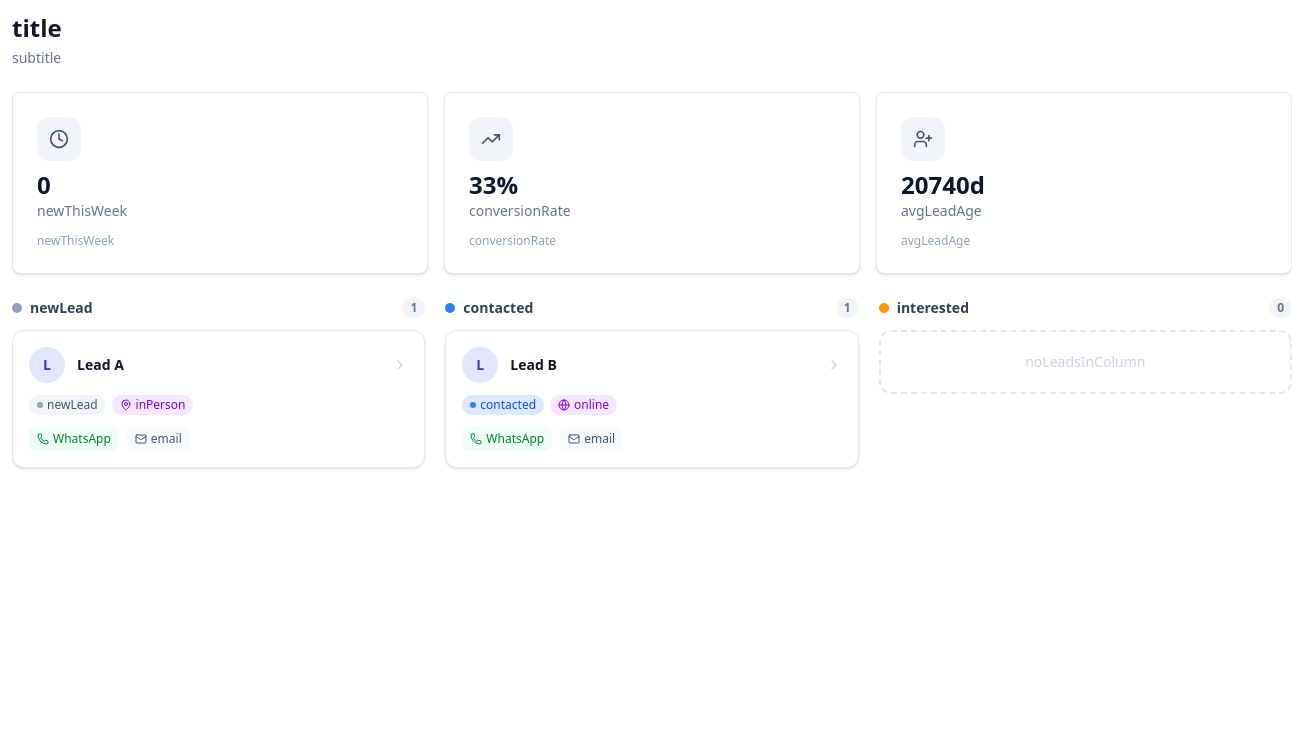
Scenario: Leads › opens drawer when lead is clicked
The image size is (1292, 732).
Click the text "Lead A" at (100,364), box x1=77 y1=355 x2=124 y2=374
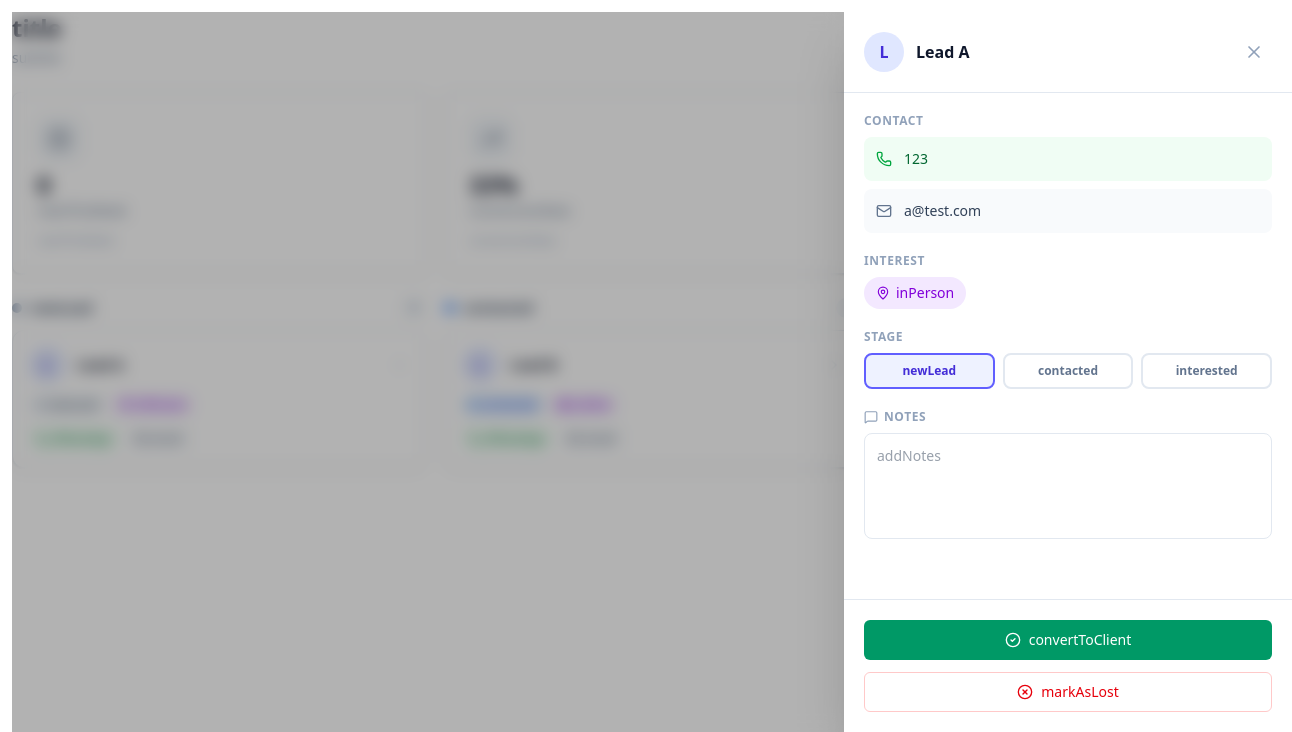
Expected: the element with test id "lead-drawer" is shown
